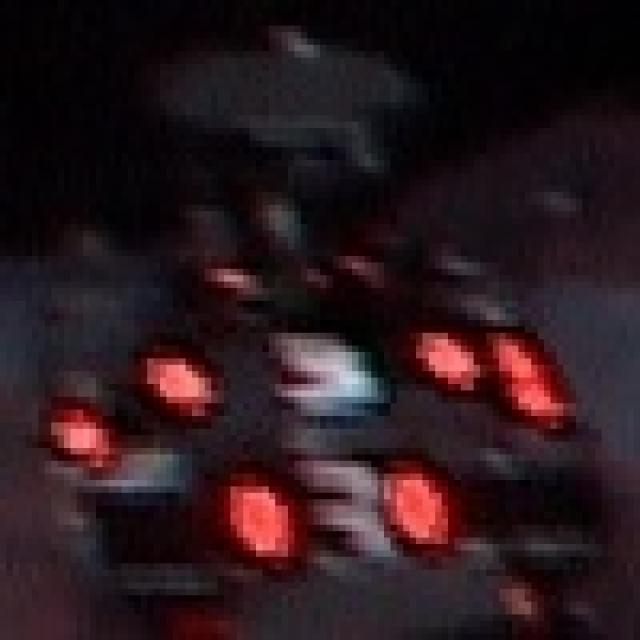R3: (230, 454, 436, 570)
